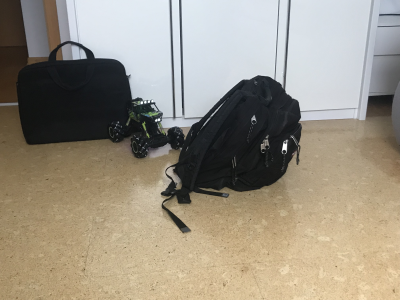remote control car: (107, 95, 185, 159)
